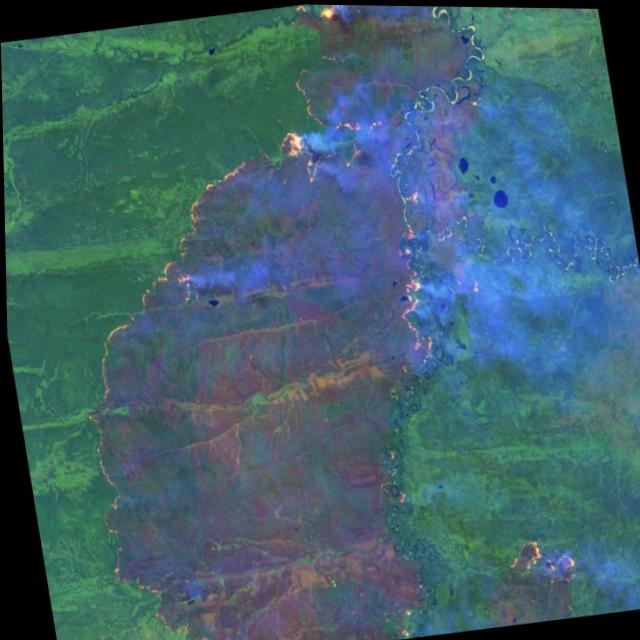fire: (8, 0, 613, 640)
